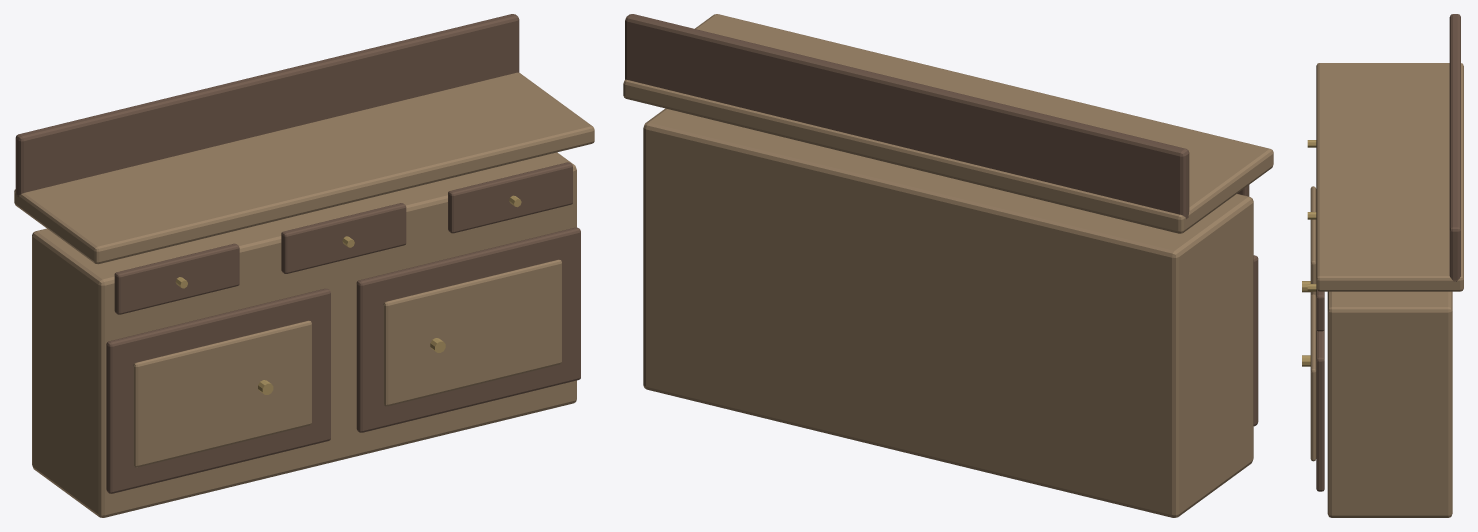
The picture shows the model from 3 angles, left to right: view 1: azimuth 30°, elevation 25°; view 2: azimuth 150°, elevation 25°; view 3: azimuth 270°, elevation 25°; orthographic projection. The views are drawn at different scales.
Visible parts, largest first — view 1: sideboard; view 2: sideboard; view 3: sideboard.
Part boxes in pixels (box(x1,y1,x2,y2)): sideboard: box(14, 14, 594, 517); sideboard: box(623, 14, 1273, 517); sideboard: box(1302, 14, 1463, 517).
Bounding box in the file's own units: 1.8 × 1.15 × 0.57.
